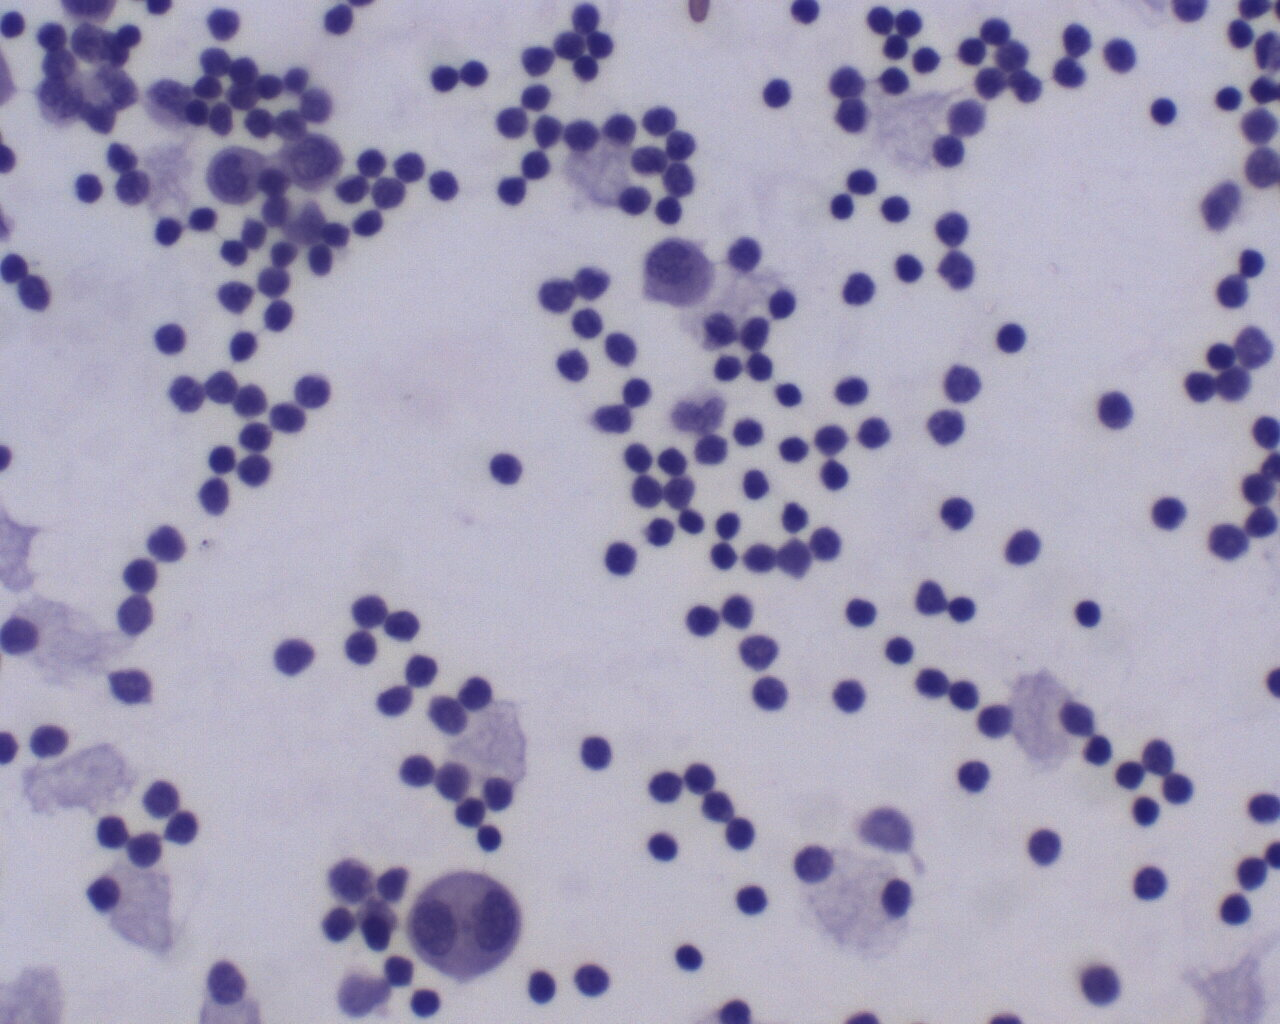ab: (279, 130, 349, 192), (204, 144, 267, 208)
histo: (807, 841, 921, 959)
lymph: (643, 822, 695, 871), (951, 751, 1001, 800), (933, 487, 978, 541), (378, 607, 436, 647), (597, 537, 641, 586), (666, 938, 717, 979), (840, 589, 887, 633), (828, 671, 870, 719), (998, 523, 1042, 568), (199, 3, 246, 45), (578, 730, 618, 779), (683, 594, 722, 644), (732, 877, 778, 918), (1215, 886, 1256, 931), (119, 552, 161, 595), (1213, 271, 1256, 312), (523, 967, 564, 1009), (1144, 89, 1186, 130), (646, 767, 688, 808), (1148, 493, 1190, 533), (814, 457, 853, 499), (1132, 789, 1169, 833), (149, 207, 187, 251), (485, 450, 530, 487), (294, 371, 334, 411), (834, 368, 874, 408), (764, 284, 805, 323), (889, 251, 931, 288), (945, 587, 982, 629), (205, 435, 241, 478), (1071, 594, 1107, 637), (761, 74, 797, 116), (397, 751, 435, 791), (823, 185, 860, 226), (880, 189, 915, 231), (730, 414, 768, 451), (68, 168, 104, 207), (618, 372, 653, 412), (776, 429, 813, 467), (427, 165, 463, 204), (1080, 731, 1115, 771), (1116, 753, 1149, 793), (495, 172, 531, 209), (474, 823, 511, 859), (996, 319, 1030, 356), (651, 194, 685, 232), (153, 320, 187, 356), (706, 538, 740, 576), (460, 54, 493, 92), (909, 42, 942, 78), (774, 377, 807, 410)
meso: (408, 866, 526, 983), (641, 236, 712, 310)
